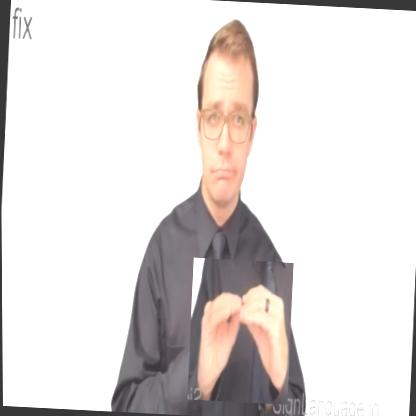Fix: (185, 258, 293, 404)
